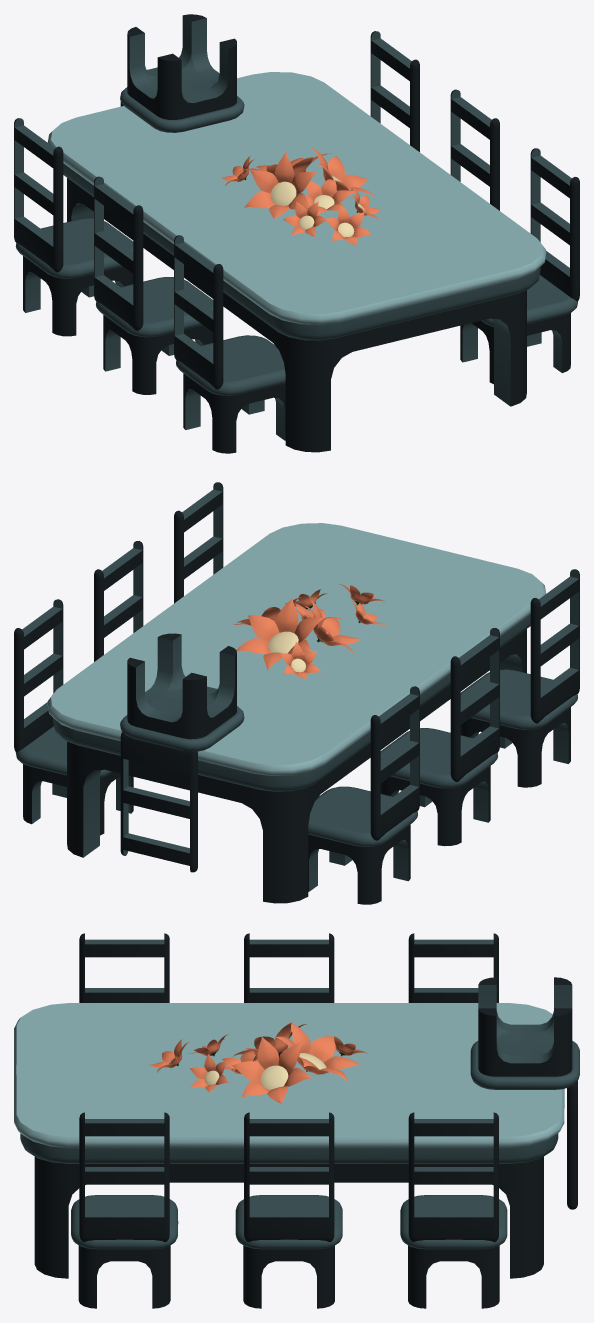
Rendered from FI_028_big_table_with_chairs_and_flowers.glb.
3 views of the same model, one above another, from view 1: azimuth 30°, elevation 25°; view 2: azimuth 150°, elevation 25°; view 3: azimuth 270°, elevation 25° (orthographic). The views are drawn at different scales.
Visible parts, largest first — view 1: big_table_with_chairs_and_flowers; view 2: big_table_with_chairs_and_flowers; view 3: big_table_with_chairs_and_flowers.
Boxes of the visible parts, box(x1,y1,x2,y2) form: big_table_with_chairs_and_flowers: box(14, 14, 579, 453); big_table_with_chairs_and_flowers: box(14, 482, 579, 904); big_table_with_chairs_and_flowers: box(14, 933, 579, 1308).
Size of the model in its own units: 3 by 1.68 by 3.87.
